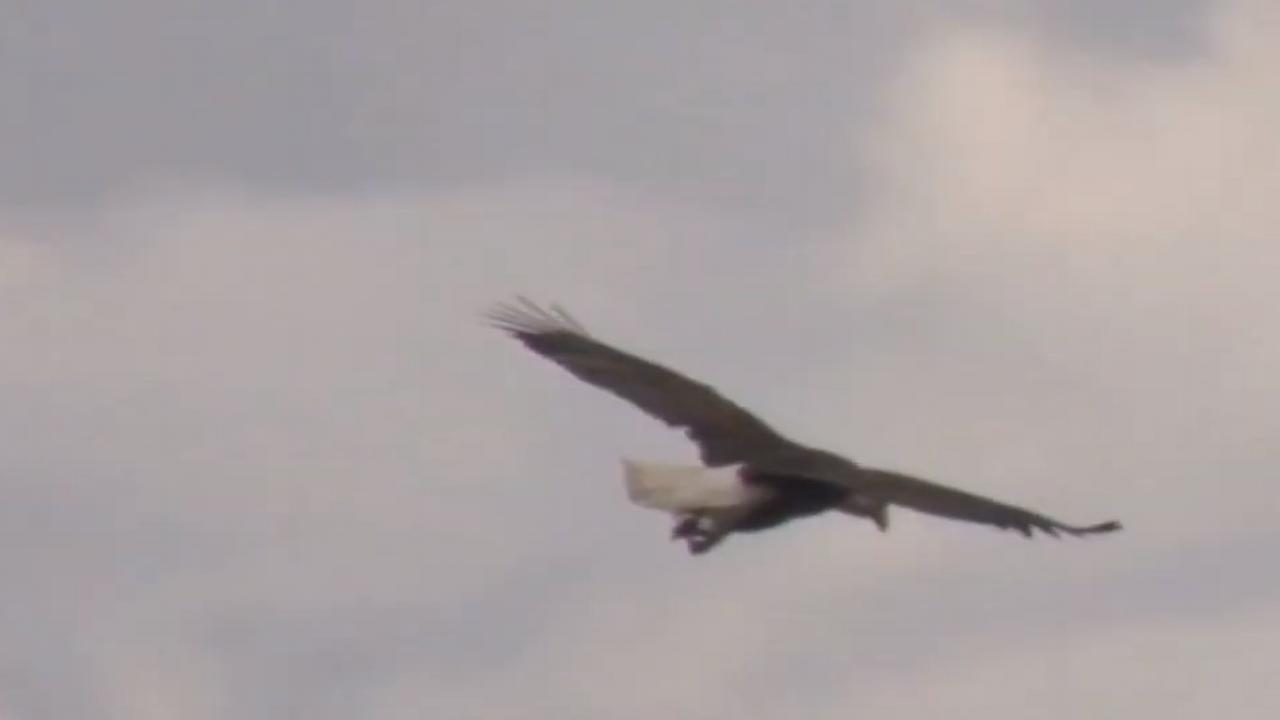Bird: (475, 290, 1139, 568)
